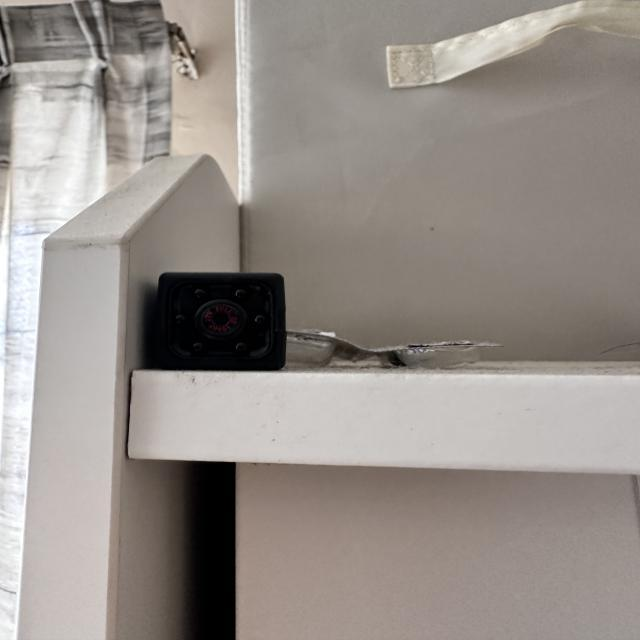hidden camera: (196, 303, 243, 336)
